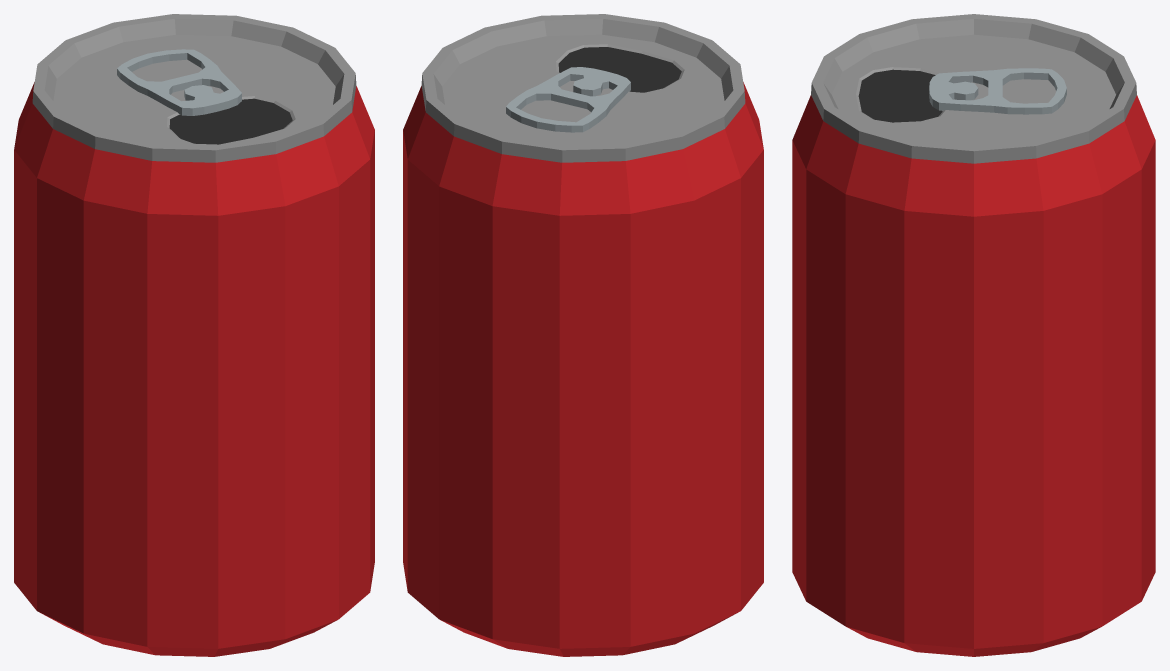
Rendered from Soda.fbx.
3 views of the same model, side by side, from view 1: azimuth 30°, elevation 25°; view 2: azimuth 150°, elevation 25°; view 3: azimuth 270°, elevation 25° (orthographic).
Visible parts, largest first — view 1: Soda; view 2: Soda; view 3: Soda.
Part boxes in pixels (<box>): Soda: <box>14,14,374,656</box>; Soda: <box>403,14,763,656</box>; Soda: <box>792,14,1155,656</box>.
Bounding box in the file's own units: 8.31 × 12.9 × 8.31.
